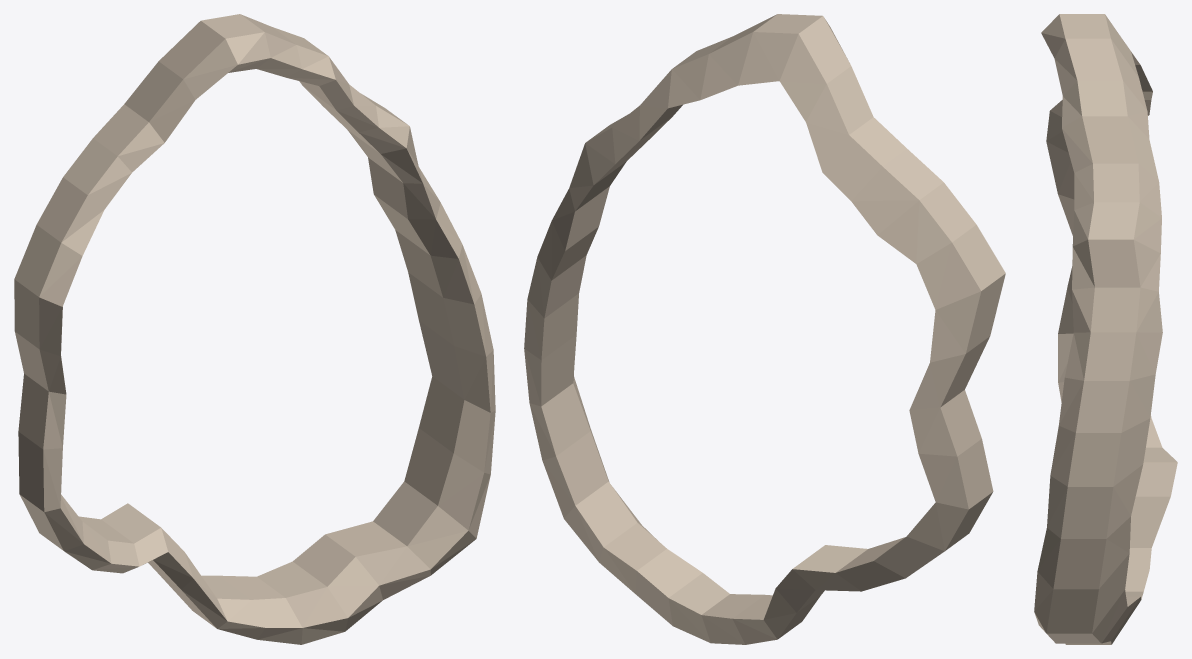
The model's file is Geode_Rim_C.fbx.
The picture shows the model from 3 angles, left to right: view 1: azimuth 30°, elevation 25°; view 2: azimuth 150°, elevation 25°; view 3: azimuth 270°, elevation 25°; orthographic projection. The views are drawn at different scales.
Visible parts, largest first — view 1: Rim; view 2: Rim; view 3: Rim.
Boxes of the visible parts, x1,y1,x2,y2 form: Rim: (14, 14, 495, 644); Rim: (524, 14, 1005, 644); Rim: (1034, 14, 1177, 644).
Bounding box in the file's own units: 1.92 × 2.53 × 0.5675.
